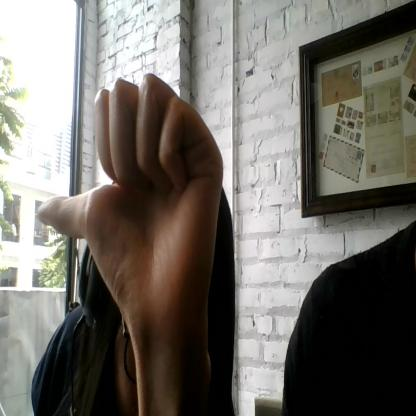right: (37, 77, 224, 330)
